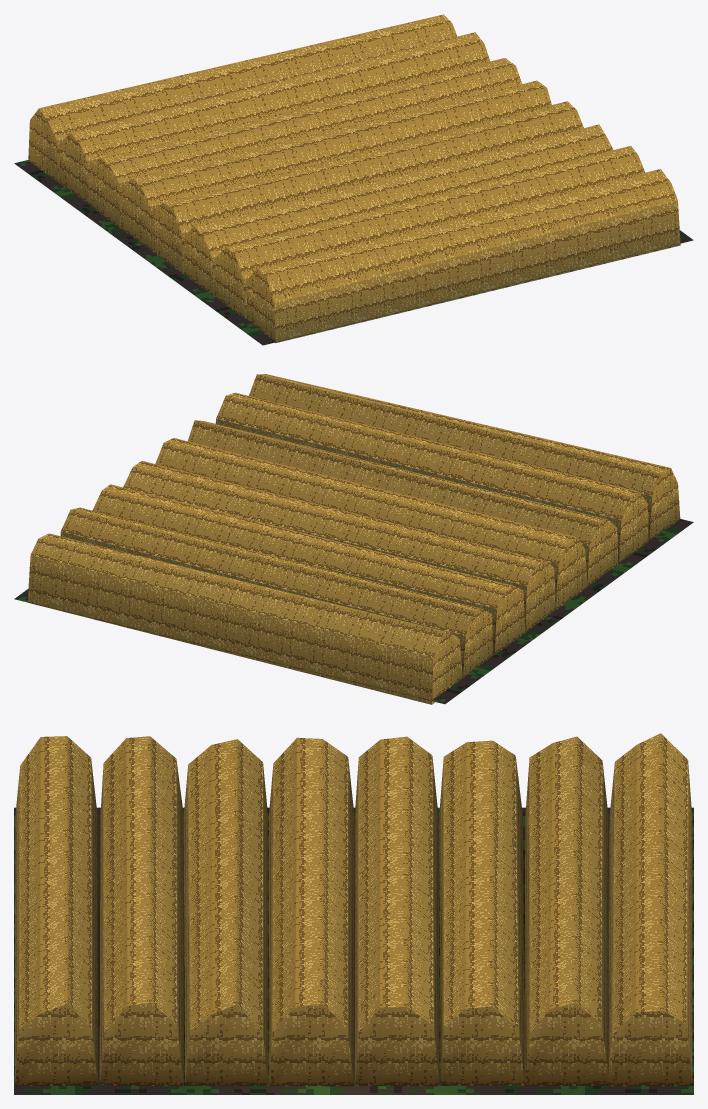
File: mnat.field.glb
3 renders of one model, top to bottom at view 1: azimuth 30°, elevation 25°; view 2: azimuth 150°, elevation 25°; view 3: azimuth 270°, elevation 25°, orthographic. The views are drawn at different scales.
Visible parts, largest first — view 1: kit_crop, kit_shell_soil; view 2: kit_crop, kit_shell_soil; view 3: kit_crop, kit_shell_soil.
Boxes of the visible parts, <box> form: kit_crop: <box>28,14,680,342</box>; kit_shell_soil: <box>14,160,693,345</box>; kit_crop: <box>27,374,680,704</box>; kit_shell_soil: <box>14,519,693,704</box>; kit_crop: <box>14,733,692,1086</box>; kit_shell_soil: <box>14,807,693,1094</box>.
Size of the model in its own units: 8 by 1.16 by 8.
Materials: 2 (2 with a texture image).
